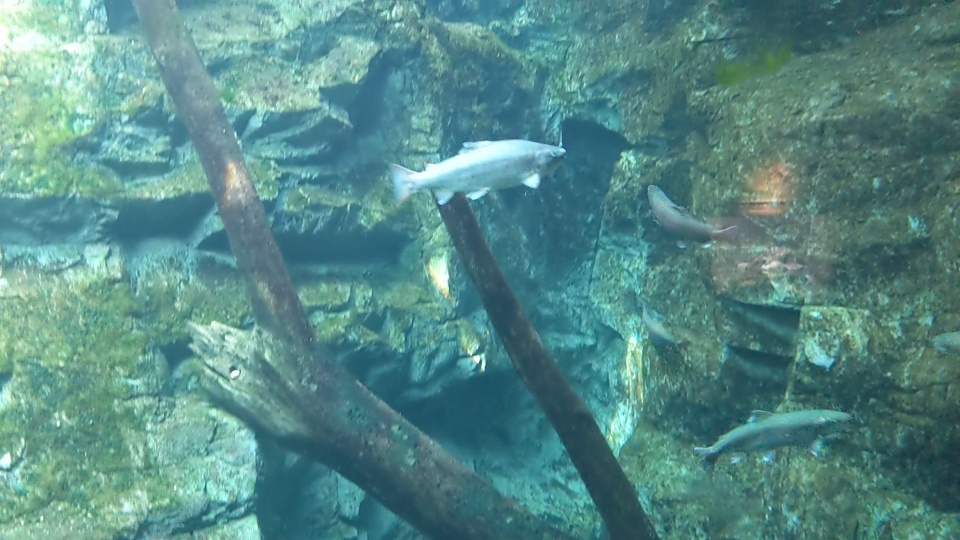Fish: (386, 136, 564, 210), (693, 406, 865, 471), (643, 179, 730, 239), (636, 302, 688, 350), (803, 327, 840, 363), (924, 326, 960, 347)
